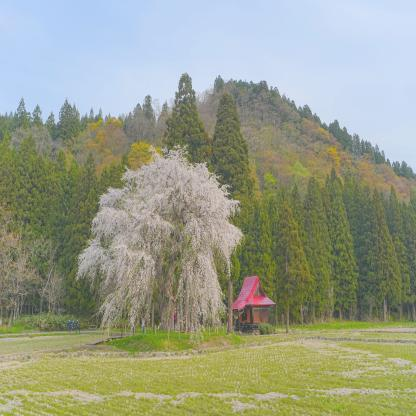ShidareZakura: (75, 139, 242, 346)
